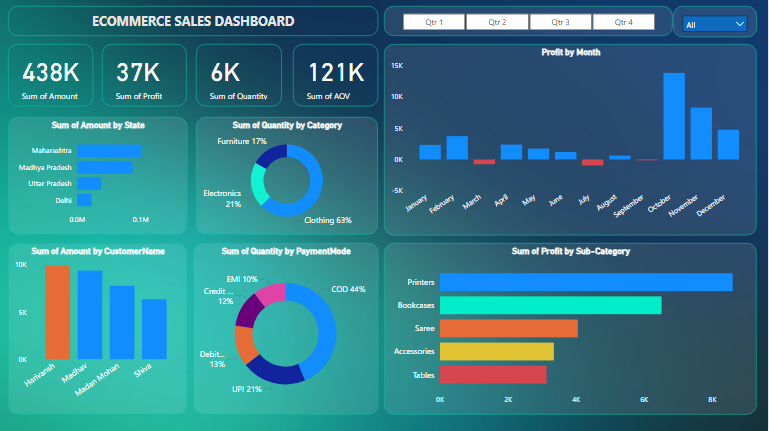

The page's visual inventory and layout, read from the dashboard file:
{"tool":"powerbi","page":{"name":"Page 1","canvas":[1280,720],"ordinal":0},"visuals":[{"type":"textbox","box":[12.9,11.4,617.1,50],"z":0},{"type":"columnChart","title":"Profit by Month","fields":{"Category":["Orders.Order Date.Variation.Date Hierarchy.Month"],"Y":["Details.Profit"]},"box":[640,74.3,621.4,318.6],"z":1000},{"type":"barChart","fields":{"Category":["Details.Sub-Category"],"Y":["Details.Profit"]},"box":[640,407.1,621.4,285.7],"z":2000},{"type":"donutChart","fields":{"Category":["Details.Category"],"Y":["Details.Quantity"]},"box":[327.1,197.1,302.9,195.7],"z":3000},{"type":"donutChart","fields":{"Category":["Details.PaymentMode"],"Y":["Details.Quantity"]},"box":[321.4,407.1,308.6,285.7],"z":4000},{"type":"cardVisual","fields":{"Data":["Details.Amount"]},"box":[12.9,74.3,142,104.3],"z":5000},{"type":"cardVisual","fields":{"Data":["Details.Profit"]},"box":[170,74.3,141.4,104.3],"z":6000},{"type":"cardVisual","fields":{"Data":["Details.Quantity"]},"box":[327.1,75.7,143,104.3],"z":7000},{"type":"cardVisual","fields":{"Data":["Details.AOV"]},"box":[488.6,75.7,142,104.3],"z":8000},{"type":"barChart","fields":{"Category":["Orders.State"],"Y":["Details.Amount"]},"box":[12.9,197.1,298.6,195.7],"z":9000},{"type":"columnChart","fields":{"Category":["Orders.CustomerName"],"Y":["Details.Amount"]},"box":[12.9,407.1,298.6,285.7],"z":10000},{"type":"slicer","fields":{"Values":["Orders.Order Date.Variation.Date Hierarchy.Quarter"]},"box":[640,11.4,481.4,50],"z":11000},{"type":"slicer","fields":{"Values":["Orders.State"]},"box":[1121.7,11.7,140,51.7],"z":12000}]}

Visuals, with their boxes in screenshot pixels (x1, y1, x2, y2), scaled from the page's 1280x720 canvas onto the 769x431 screenshot:
textbox: region(8, 7, 378, 37)
"Profit by Month" columnChart: region(384, 44, 758, 235)
barChart - Details.Sub-Category x Details.Profit: region(384, 244, 758, 415)
donutChart - Details.Category x Details.Quantity: region(197, 118, 378, 235)
donutChart - Details.PaymentMode x Details.Quantity: region(193, 244, 378, 415)
cardVisual - Details.Amount: region(8, 44, 93, 107)
cardVisual - Details.Profit: region(102, 44, 187, 107)
cardVisual - Details.Quantity: region(197, 45, 282, 108)
cardVisual - Details.AOV: region(294, 45, 379, 108)
barChart - Orders.State x Details.Amount: region(8, 118, 187, 235)
columnChart - Orders.CustomerName x Details.Amount: region(8, 244, 187, 415)
slicer - Orders.Order Date.Variation.Date Hierarchy.Quarter: region(384, 7, 674, 37)
slicer - Orders.State: region(674, 7, 758, 38)
